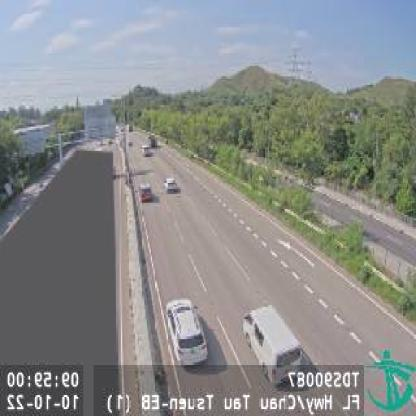Car: (242, 304, 307, 388), (164, 299, 208, 364), (140, 183, 154, 200), (164, 176, 178, 192), (144, 144, 152, 156)
